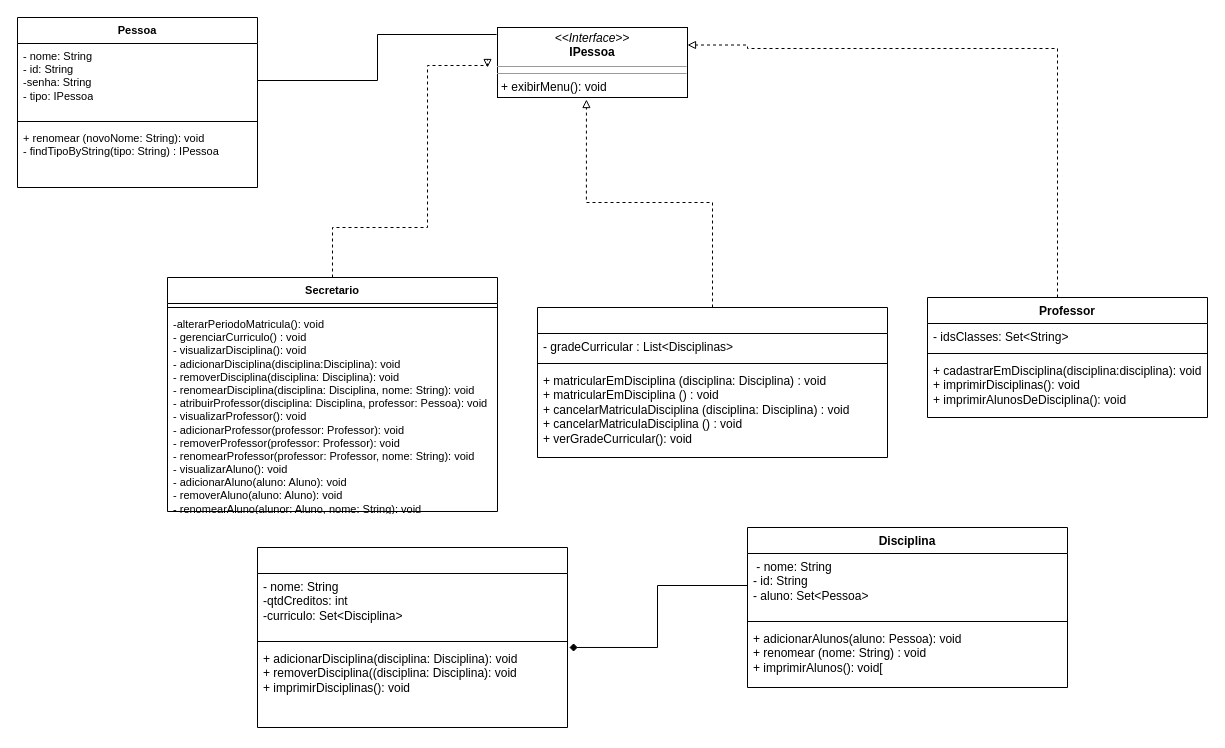
This 1225x748 diagram has some shape labels left out. Each missing label, with the box of its shape:
Aluno: (536, 306, 888, 458)
Curso: (256, 546, 568, 728)
